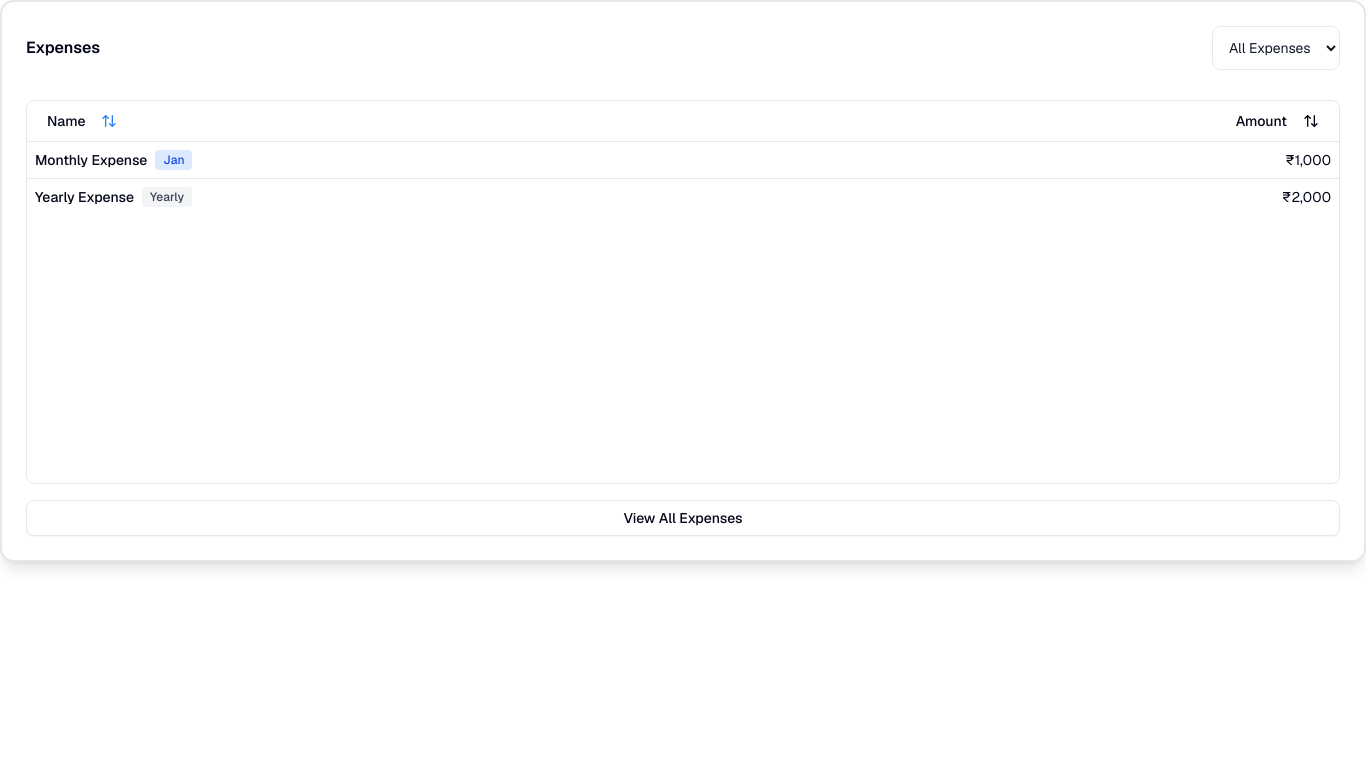
ExpenseList Component › displays yearly only filter
The width and height of the screenshot is (1366, 768).
Select "Yearly Only" in the dropdown. click: (1276, 48)
box: [1212,26,1340,70]
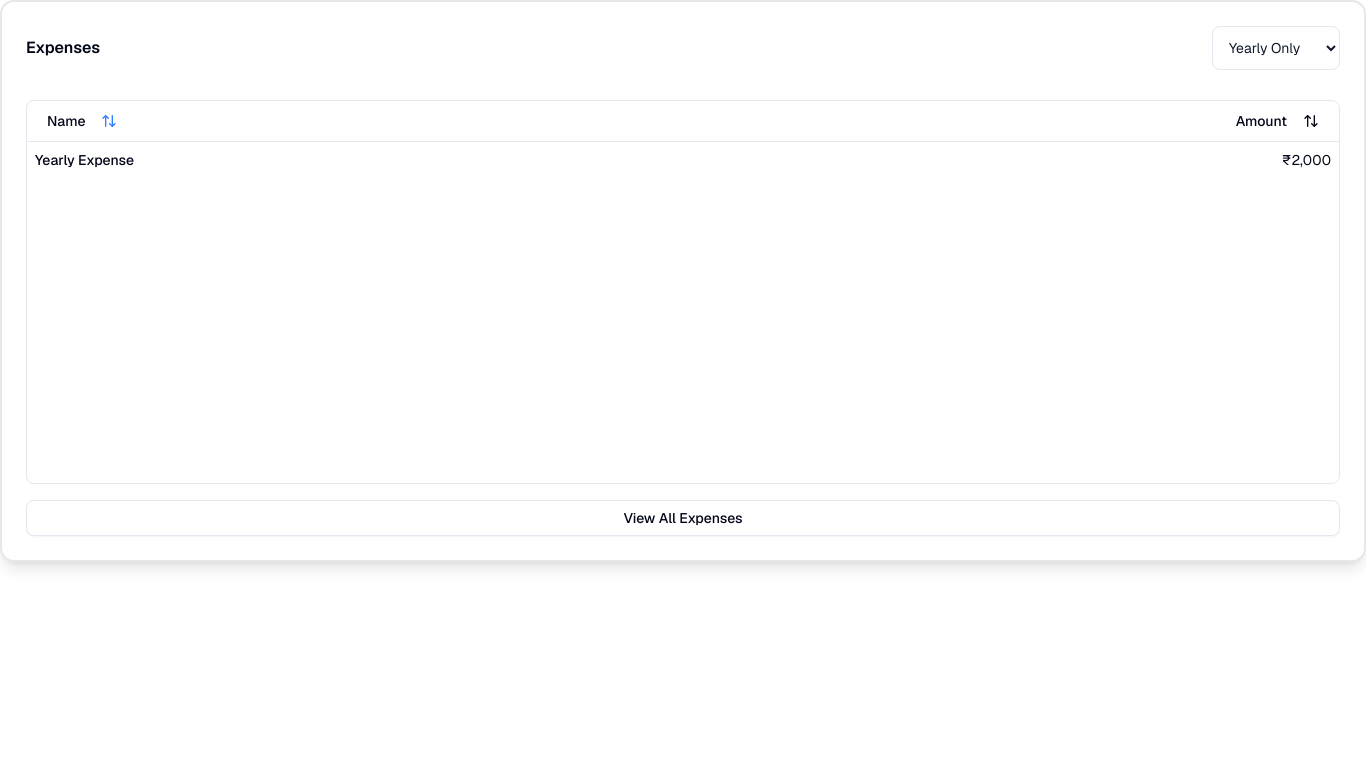
Now the text "Monthly Expense" is gone
